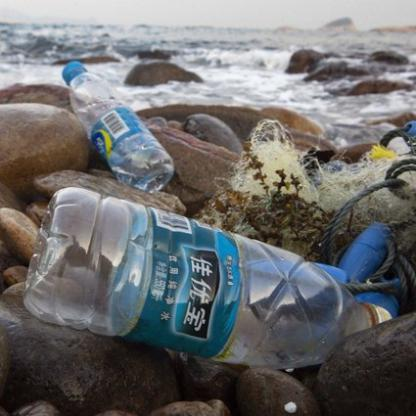Plastic: (20, 181, 392, 371), (61, 59, 179, 194)
